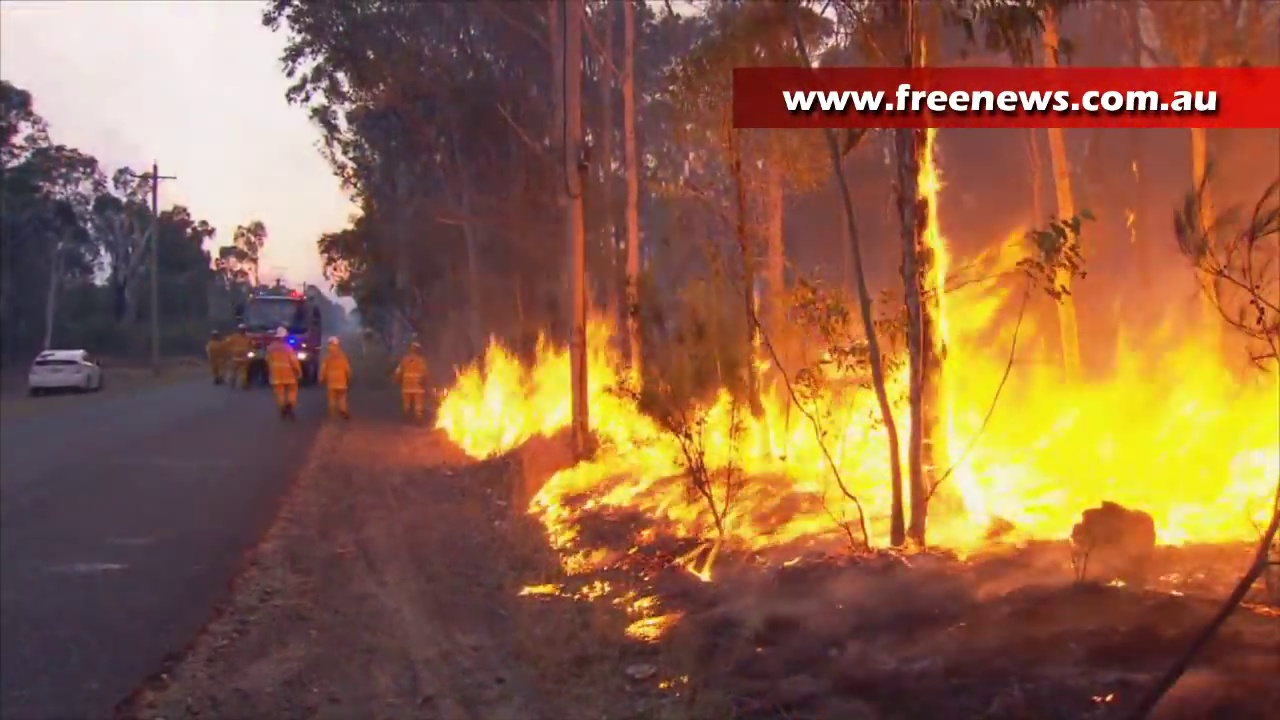fire: (591, 338, 907, 553), (939, 358, 1280, 543), (441, 333, 575, 451), (921, 130, 951, 342), (623, 598, 664, 640)
